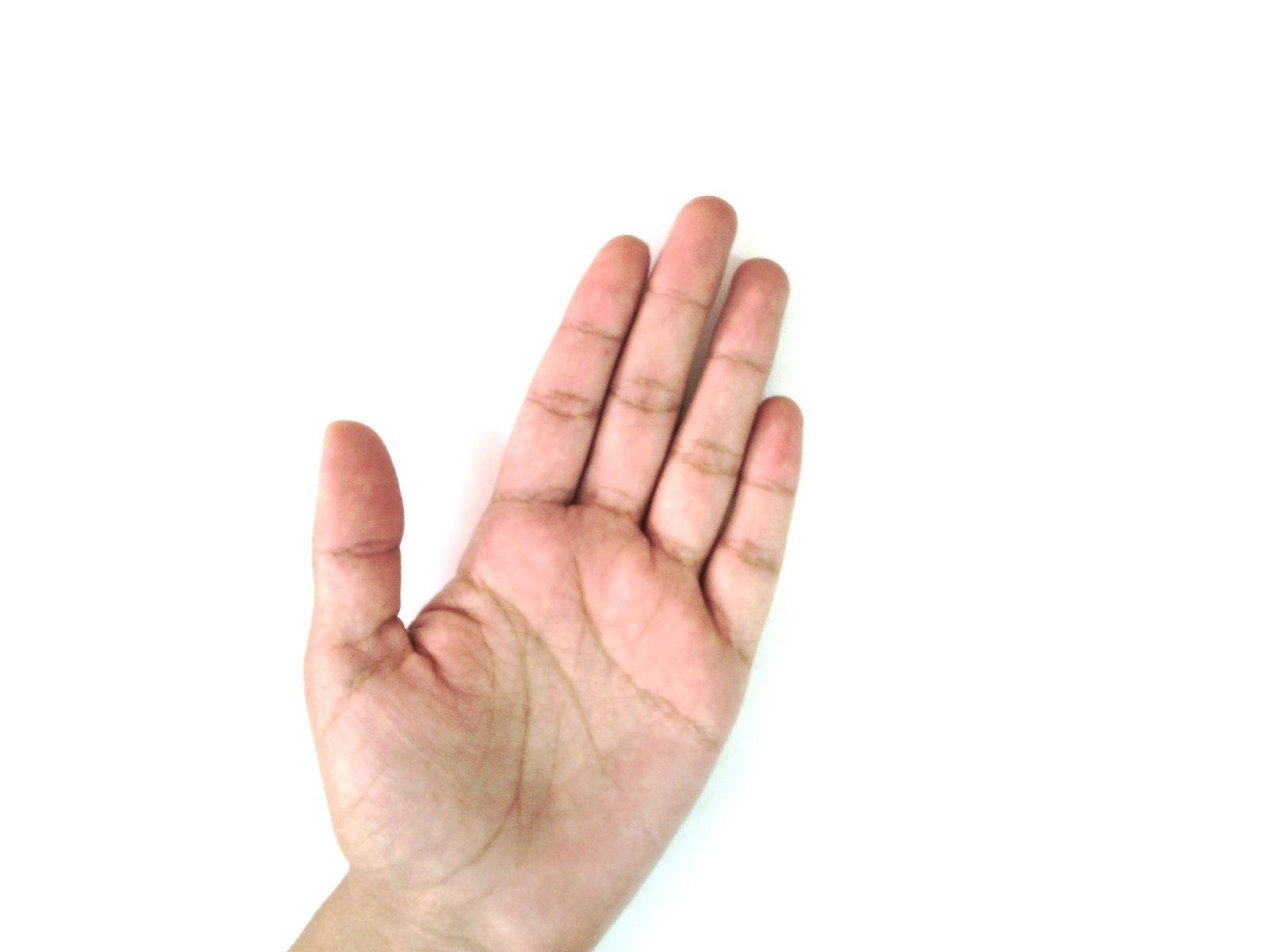open_palm: (289, 194, 807, 950)
